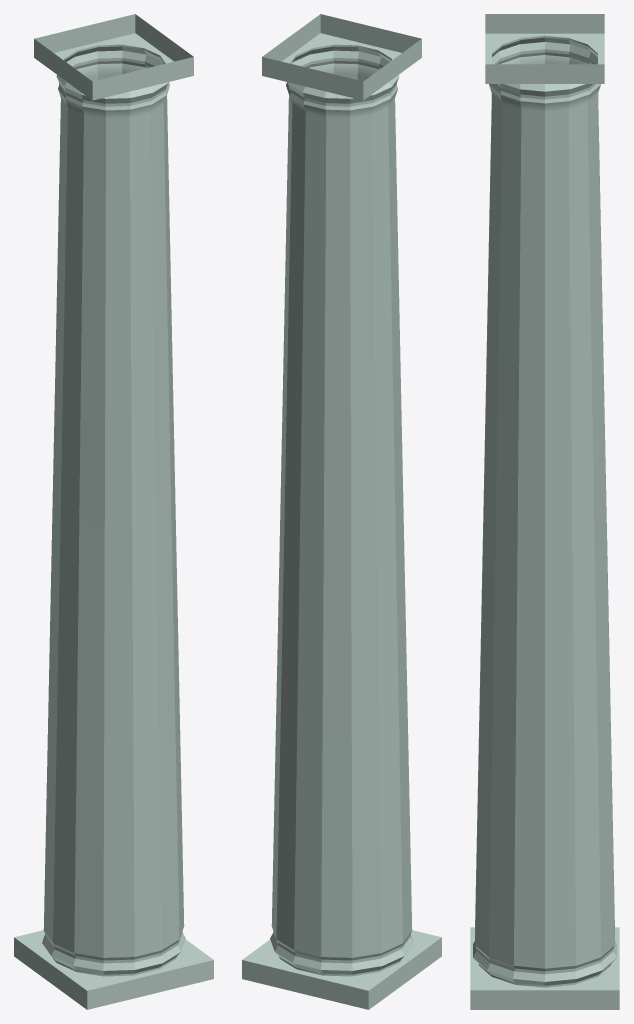
The model's file is pilaar.fbx.
3 views of the same model, side by side, from view 1: azimuth 30°, elevation 25°; view 2: azimuth 150°, elevation 25°; view 3: azimuth 270°, elevation 25° (orthographic). The views are drawn at different scales.
Visible parts, largest first — view 1: msh_pillar_R06.002; view 2: msh_pillar_R06.002; view 3: msh_pillar_R06.002.
Part boxes in pixels (x1,y1,x2,y2): msh_pillar_R06.002: [14, 14, 213, 1009]; msh_pillar_R06.002: [242, 14, 441, 1009]; msh_pillar_R06.002: [470, 14, 619, 1009].
Size of the model in its own units: 78.99 by 548 by 78.99.
